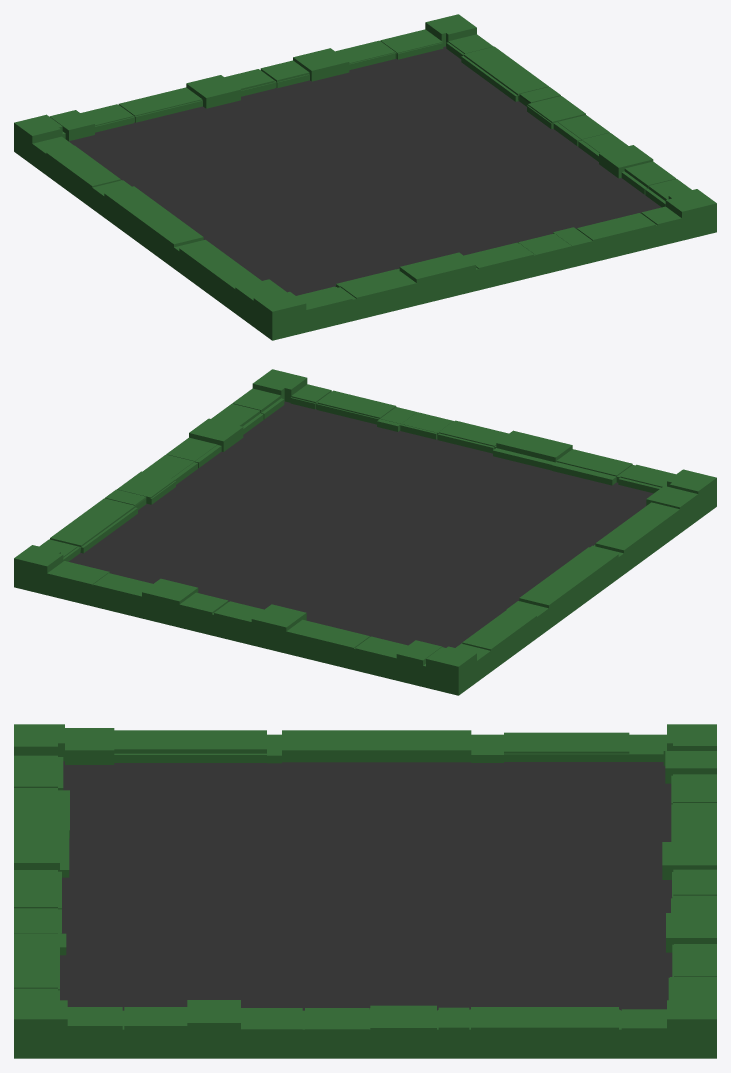
File: green.fbx
3 views of the same model, one above another, from view 1: azimuth 30°, elevation 25°; view 2: azimuth 150°, elevation 25°; view 3: azimuth 270°, elevation 25° (orthographic). The views are drawn at different scales.
Visible parts, largest first — view 1: aaaa.001, Cube.044, Cube.042, Cube.043, Cube.045; view 2: aaaa.001, Cube.045, Cube.042, Cube.044, Cube.043; view 3: aaaa.001, Cube.043, Cube.042, Cube.044, Cube.045.
Boxes of the visible parts, x1,y1,x2,y2 form: aaaa.001: [69, 46, 665, 295]; Cube.044: [253, 189, 716, 340]; Cube.042: [14, 114, 286, 326]; Cube.043: [425, 14, 691, 207]; Cube.045: [50, 29, 443, 140]; aaaa.001: [69, 401, 653, 647]; Cube.045: [47, 561, 441, 686]; Cube.042: [420, 486, 698, 695]; Cube.044: [252, 369, 716, 519]; Cube.043: [14, 388, 284, 595]; aaaa.001: [60, 761, 672, 1010]; Cube.043: [67, 997, 716, 1058]; Cube.042: [65, 724, 716, 765]; Cube.044: [14, 724, 69, 1058]; Cube.045: [662, 751, 716, 1000].
Bounding box in the file's own units: 366 × 22.83 × 368.
